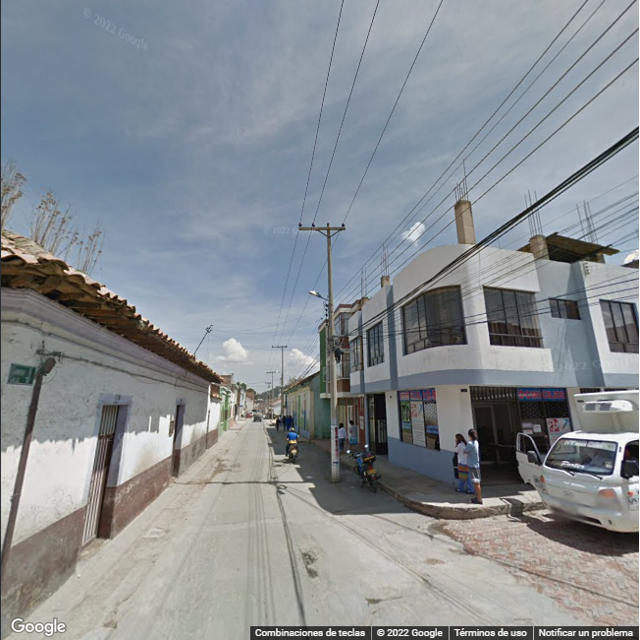D00: (319, 572, 358, 620)
D10: (359, 593, 402, 604)
D40: (298, 548, 317, 564)
